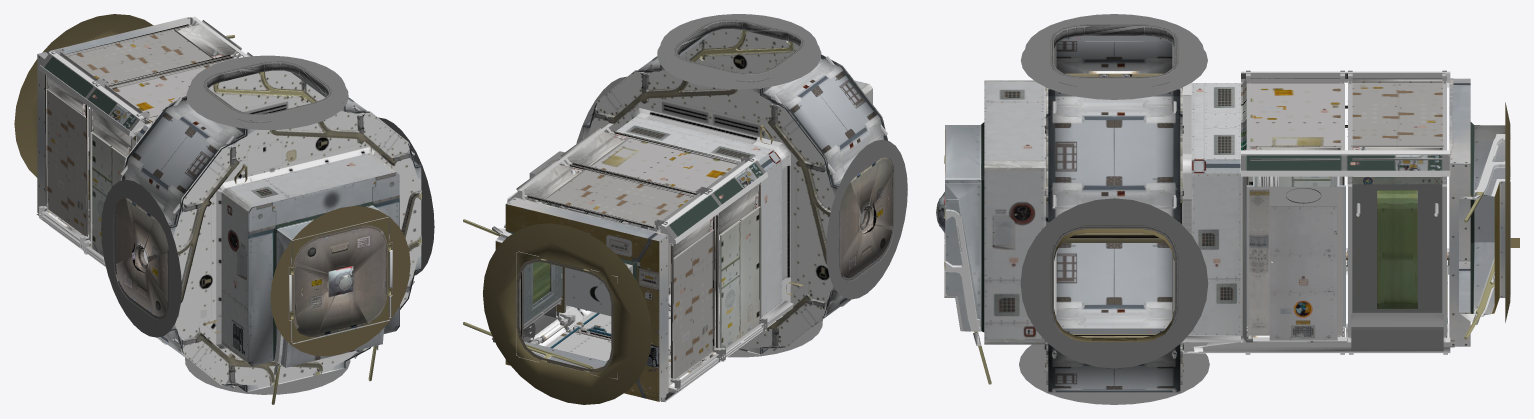
3 renders of one model, left to right at view 1: azimuth 30°, elevation 25°; view 2: azimuth 150°, elevation 25°; view 3: azimuth 270°, elevation 25°, orthographic. The views are drawn at different scales.
Parts seen in each view (by area): view 1: Node3_Int__Bulkhead_SBD; view 2: Node3_Int__Bulkhead_SBD; view 3: Node3_Int__Bulkhead_SBD.
Boxes of the visible parts, x1=… form: Node3_Int__Bulkhead_SBD: x1=14, y1=14, x2=434, y2=404; Node3_Int__Bulkhead_SBD: x1=463, y1=14, x2=907, y2=404; Node3_Int__Bulkhead_SBD: x1=936, y1=14, x2=1519, y2=404.
Bounding box in the file's own units: 3.56 × 5.88 × 3.56.
Materials: 6 (6 with a texture image).
